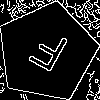F: (22, 27, 71, 81)
